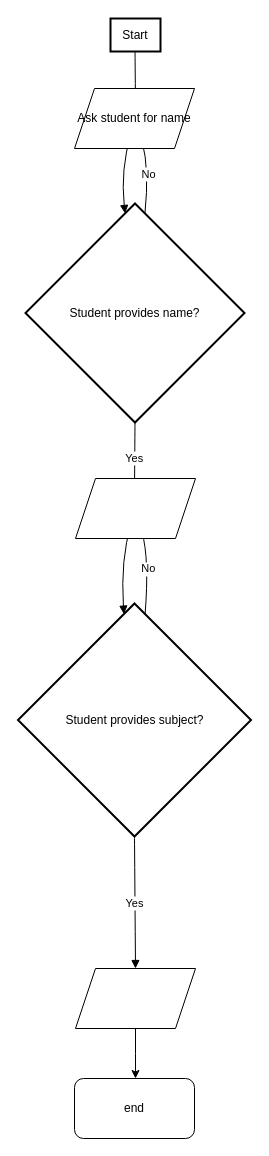
Some shapes in this 269 by 1156 pixel diagram are drawn without their labels. The centre of each missing label's shape, as x and y in pixels:
ask student for subject: point 135,508
display the room number: point 135,998
